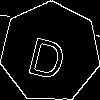D: (25, 27, 71, 81)
